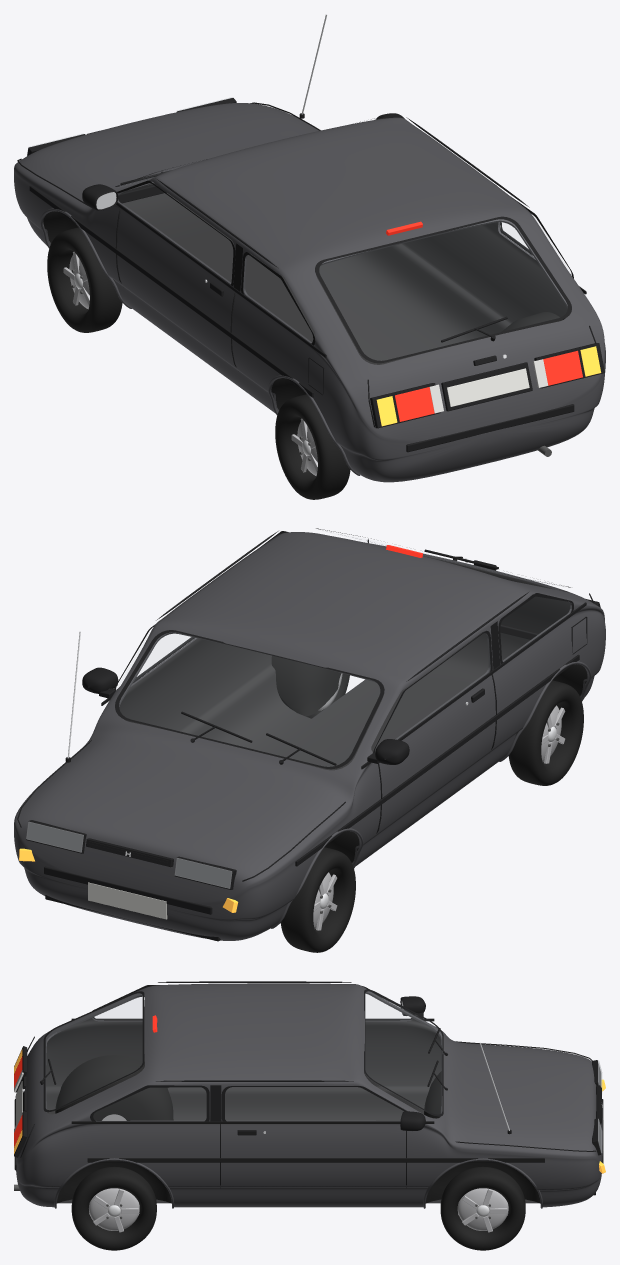
The model's file is civic_exterior.glb.
3 renders of one model, top to bottom at view 1: azimuth 30°, elevation 25°; view 2: azimuth 150°, elevation 25°; view 3: azimuth 270°, elevation 25°, orthographic. The views are drawn at different scales.
Visible parts, largest first — view 1: EXT_Body, EXT_Tire_FL, EXT_Tire_RL, EXT_HatchSeal, EXT_SideMolding_L, EXT_RearPlate, EXT_RearBumperStrip, EXT_RearPlateRecess, EXT_TailLight_R_Red, EXT_TailLight_L_Red, EXT_BeltMolding_L; view 2: EXT_Body, EXT_Tire_FL, EXT_Tire_RL, EXT_WheelWell_RR, EXT_SideMolding_L, EXT_WindshieldSeal, EXT_FrontPlate, EXT_Headlight_L_Housing, EXT_Headlight_R_Housing, EXT_FrontBumperStrip, EXT_Headlight_R_Lens, EXT_Headlight_L_Lens (+6 smaller); view 3: EXT_Body, EXT_WheelWell_RL, EXT_Tire_FR, EXT_Tire_RR, EXT_SideMolding_R, EXT_WheelWell_RR, EXT_WheelWell_FR, EXT_Rim_RR, EXT_Rim_FR, EXT_BeltMolding_R, EXT_HatchSeal, EXT_WindshieldSeal (+10 smaller).
Part boxes in pixels (<box>): EXT_Body: <box>14,103,605,482</box>; EXT_Tire_FL: <box>47,227,122,332</box>; EXT_Tire_RL: <box>275,394,350,499</box>; EXT_HatchSeal: <box>315,216,571,363</box>; EXT_SideMolding_L: <box>29,186,313,397</box>; EXT_RearPlate: <box>447,368,529,406</box>; EXT_RearBumperStrip: <box>406,404,574,452</box>; EXT_RearPlateRecess: <box>441,362,532,411</box>; EXT_TailLight_R_Red: <box>543,350,582,385</box>; EXT_TailLight_L_Red: <box>395,387,434,421</box>; EXT_BeltMolding_L: <box>116,202,326,357</box>; EXT_Body: <box>14,532,605,940</box>; EXT_Tire_FL: <box>280,847,355,952</box>; EXT_Tire_RL: <box>508,680,583,785</box>; EXT_WheelWell_RR: <box>271,655,341,716</box>; EXT_SideMolding_L: <box>295,654,579,866</box>; EXT_WindshieldSeal: <box>115,630,384,769</box>; EXT_FrontPlate: <box>88,882,167,919</box>; EXT_Headlight_L_Housing: <box>174,856,236,889</box>; EXT_Headlight_R_Housing: <box>26,820,86,853</box>; EXT_FrontBumperStrip: <box>44,866,212,914</box>; EXT_Headlight_R_Lens: <box>26,821,83,852</box>; EXT_Headlight_L_Lens: <box>174,858,232,888</box>; EXT_Body: <box>15,983,602,1207</box>; EXT_WheelWell_RL: <box>55,1055,173,1120</box>; EXT_Tire_FR: <box>440,1166,525,1250</box>; EXT_Tire_RR: <box>71,1166,156,1250</box>; EXT_SideMolding_R: <box>87,1158,544,1162</box>; EXT_WheelWell_RR: <box>57,1162,171,1203</box>; EXT_WheelWell_FR: <box>425,1162,540,1203</box>; EXT_Rim_RR: <box>89,1188,139,1230</box>; EXT_Rim_FR: <box>457,1188,508,1230</box>; EXT_BeltMolding_R: <box>71,1121,434,1123</box>; EXT_HatchSeal: <box>43,991,144,1112</box>; EXT_WindshieldSeal: <box>364,989,443,1116</box>.
Bounding box in the file's own units: 2.02 × 1.55 × 4.01.
